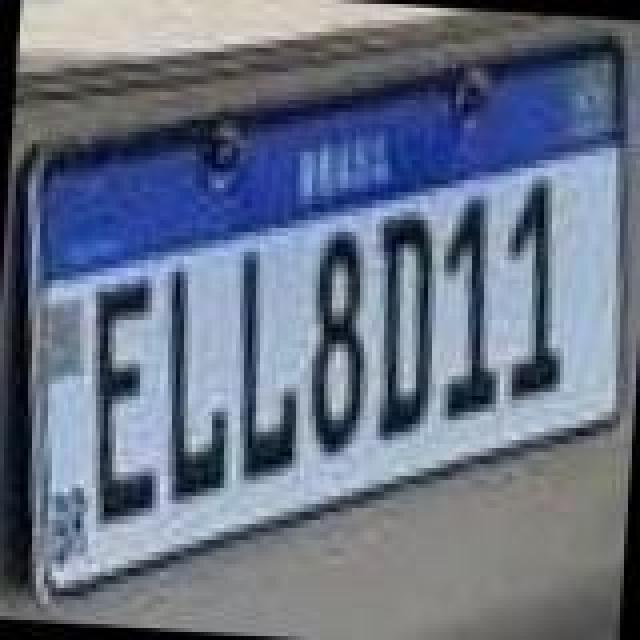1: (430, 188, 514, 420), (494, 172, 578, 404)
8: (302, 226, 378, 462)
D: (362, 206, 446, 450)
E: (76, 272, 172, 528)
L: (228, 246, 316, 490), (156, 268, 244, 508)
